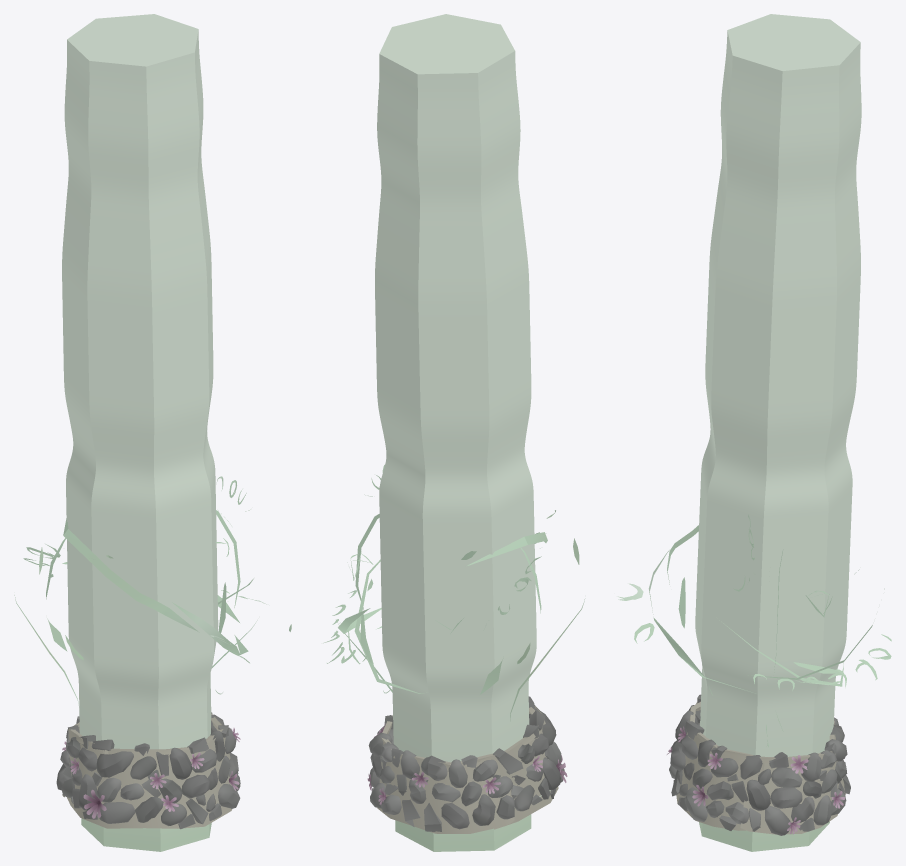
3 views of the same model, side by side, from view 1: azimuth 30°, elevation 25°; view 2: azimuth 150°, elevation 25°; view 3: azimuth 270°, elevation 25° (orthographic).
Parts seen in each view (by area): view 1: NewLayer0_0000, Well1_0000; view 2: NewLayer0_0000, Well1_0000; view 3: NewLayer0_0000, Well1_0000.
Part boxes in pixels (<box>): NewLayer0_0000: <box>14,14,291,851</box>; Well1_0000: <box>56,712,240,829</box>; NewLayer0_0000: <box>323,14,585,851</box>; Well1_0000: <box>367,696,567,833</box>; NewLayer0_0000: <box>617,14,891,851</box>; Well1_0000: <box>667,694,850,835</box>.
Size of the model in its own units: 3.28 by 9.91 by 3.17.
